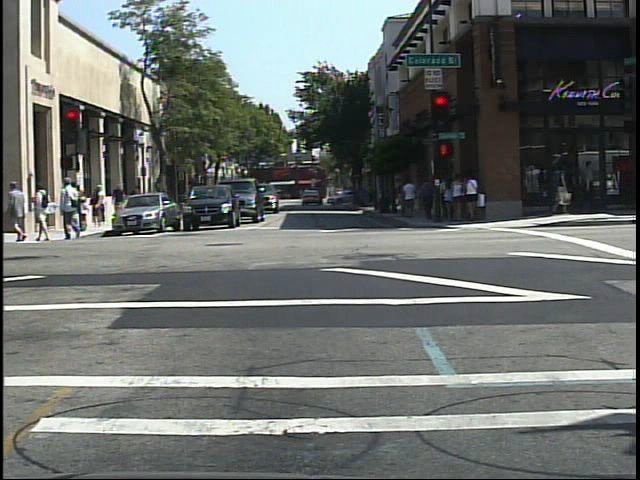person: (59, 174, 87, 244), (8, 174, 30, 246), (32, 184, 58, 243)
